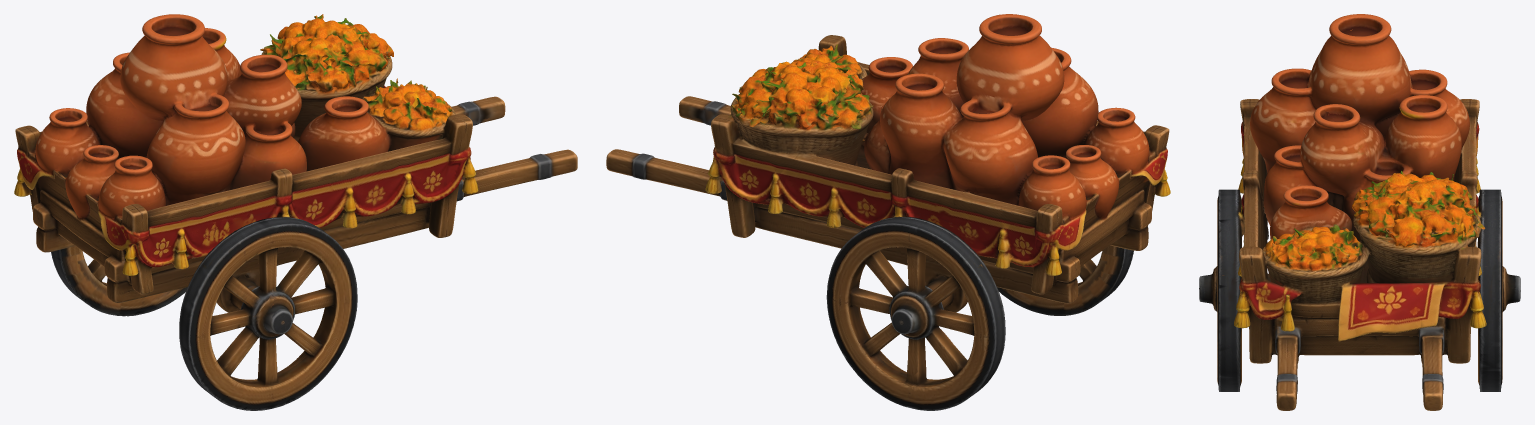
Rendered from marigold_market_cart.glb.
3 views of the same model, side by side, from view 1: azimuth 30°, elevation 25°; view 2: azimuth 150°, elevation 25°; view 3: azimuth 270°, elevation 25° (orthographic).
Size of the model in its own units: 1.9 by 1.31 by 1.12.
Materials: 1 (1 with a texture image).
